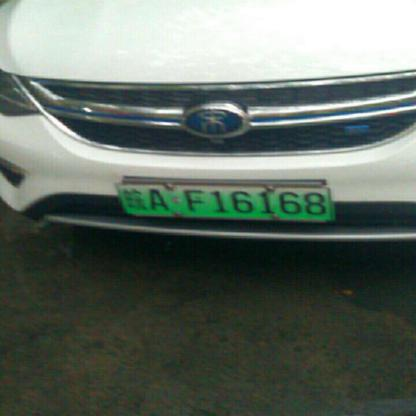lp: (116, 184, 332, 220)
